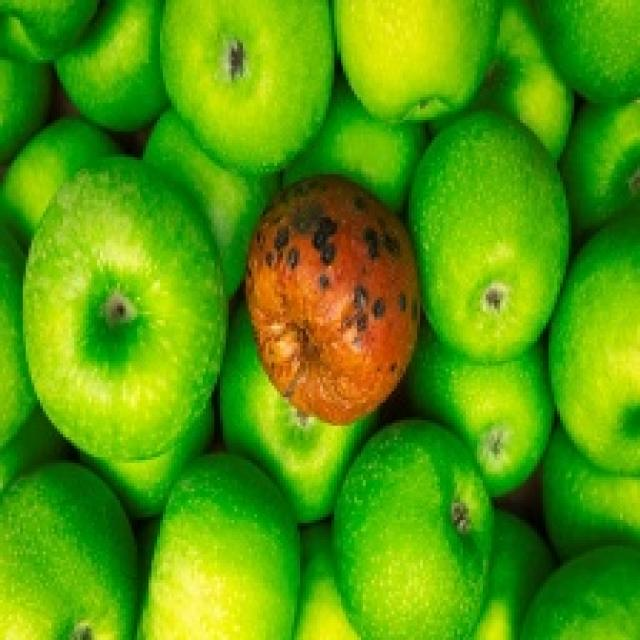rotten_apple: (253, 180, 421, 421)
